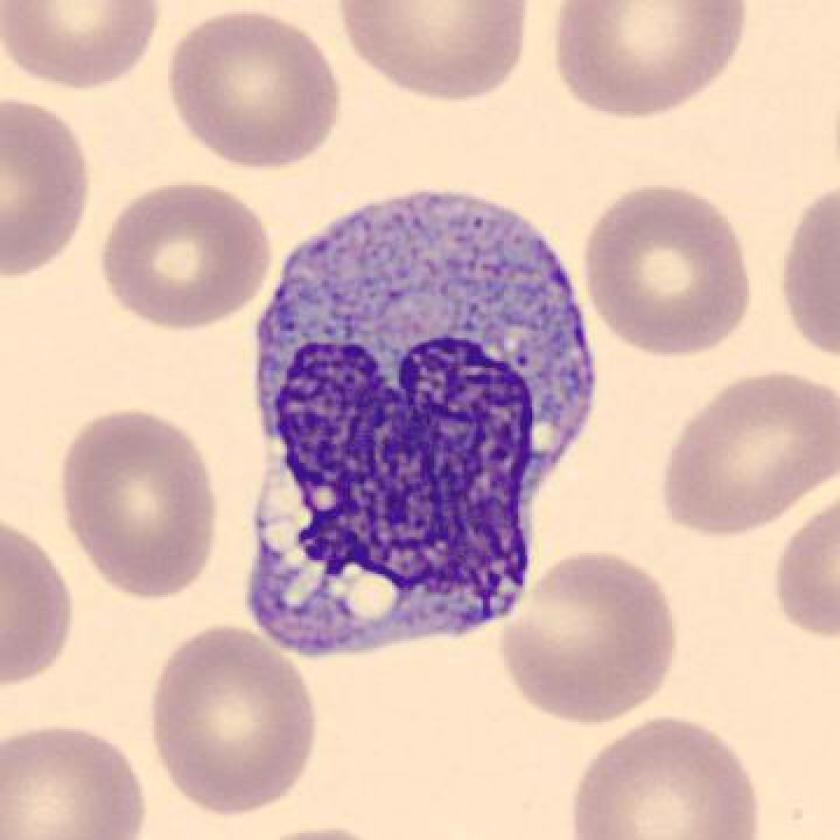monocyte: (223, 179, 626, 686)
